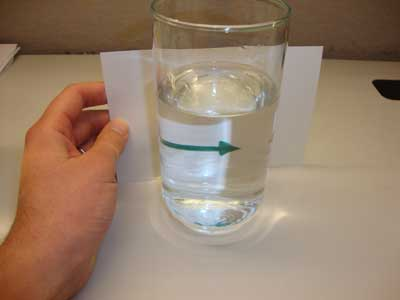glass of water: (149, 10, 285, 227)
